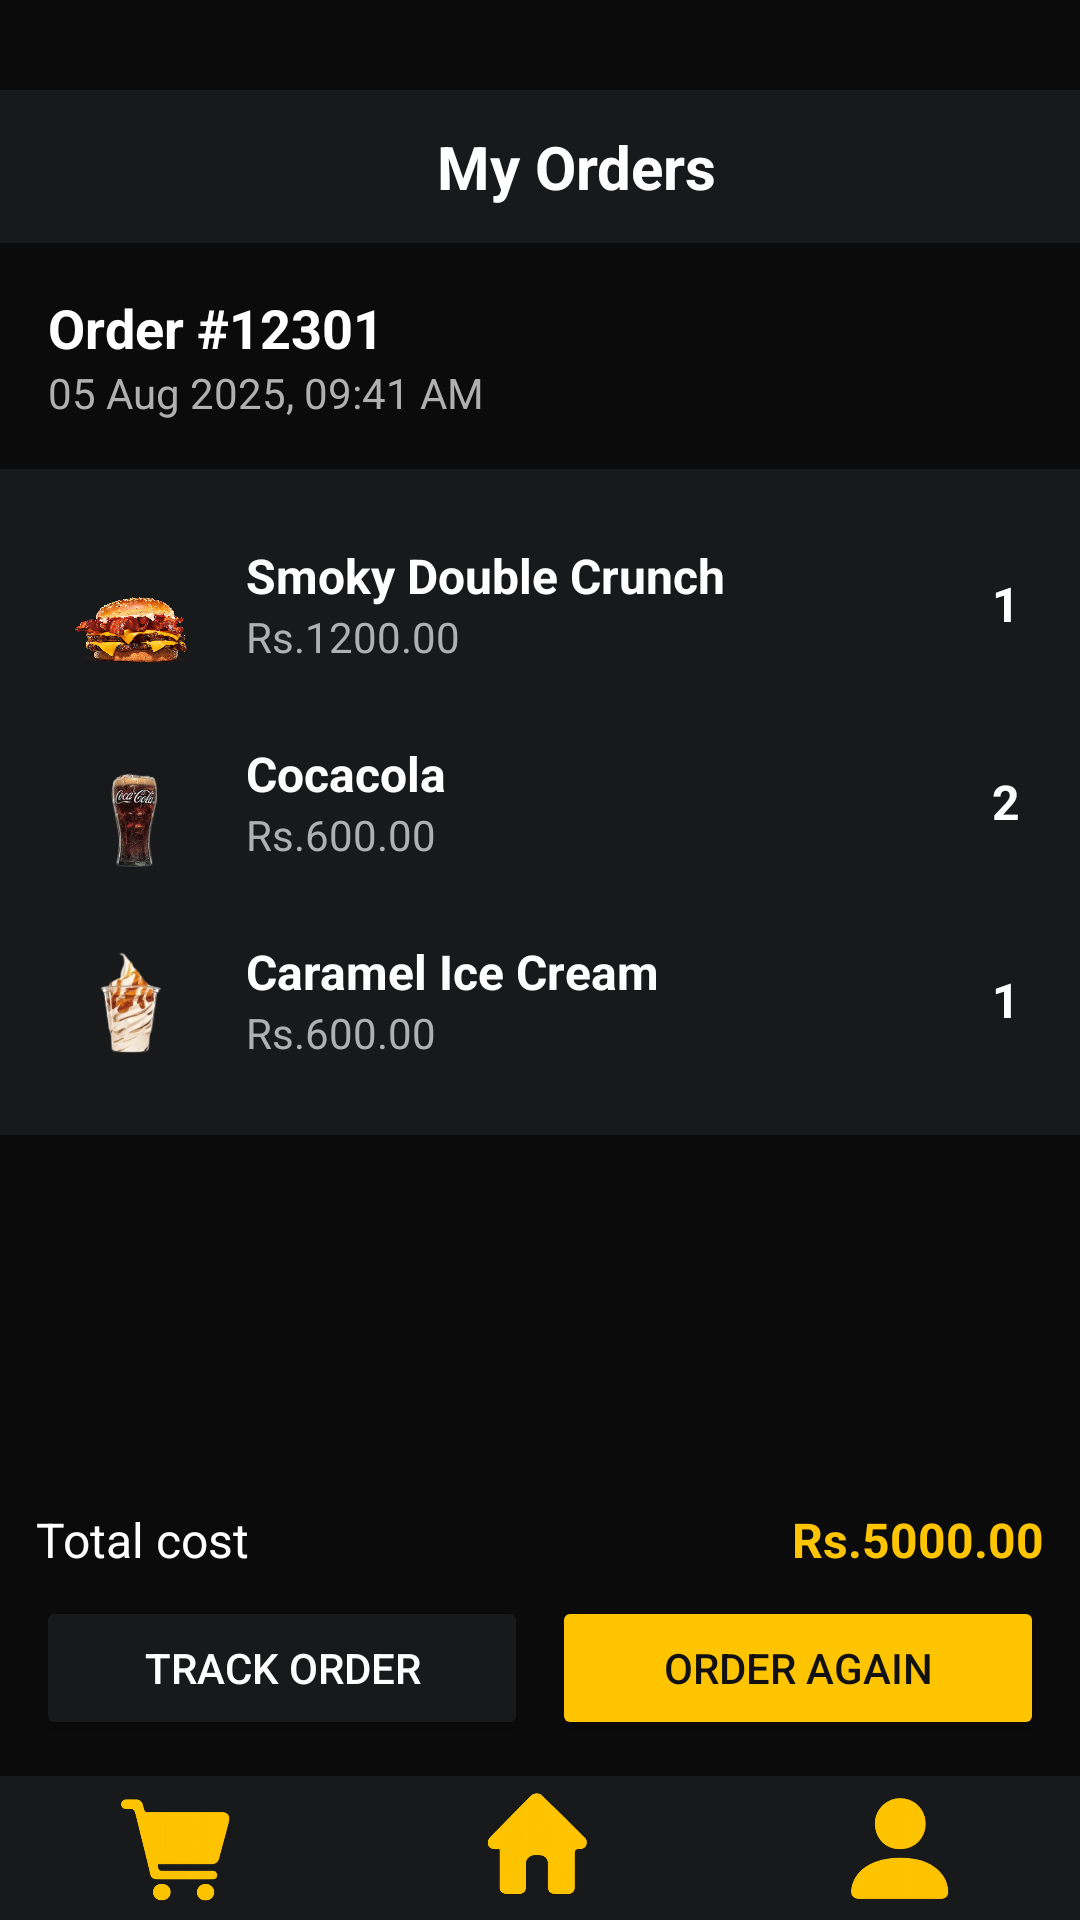

Icon bounding boxes for this 1080*1920 phone screenshot, format box(x1, y1, x2, y2):
Cart: box(121, 1799, 230, 1901)
doublepattyburger: box(75, 597, 187, 662)
Home: box(488, 1793, 587, 1894)
icecarre: box(101, 953, 161, 1053)
Profile: box(851, 1798, 949, 1899)
